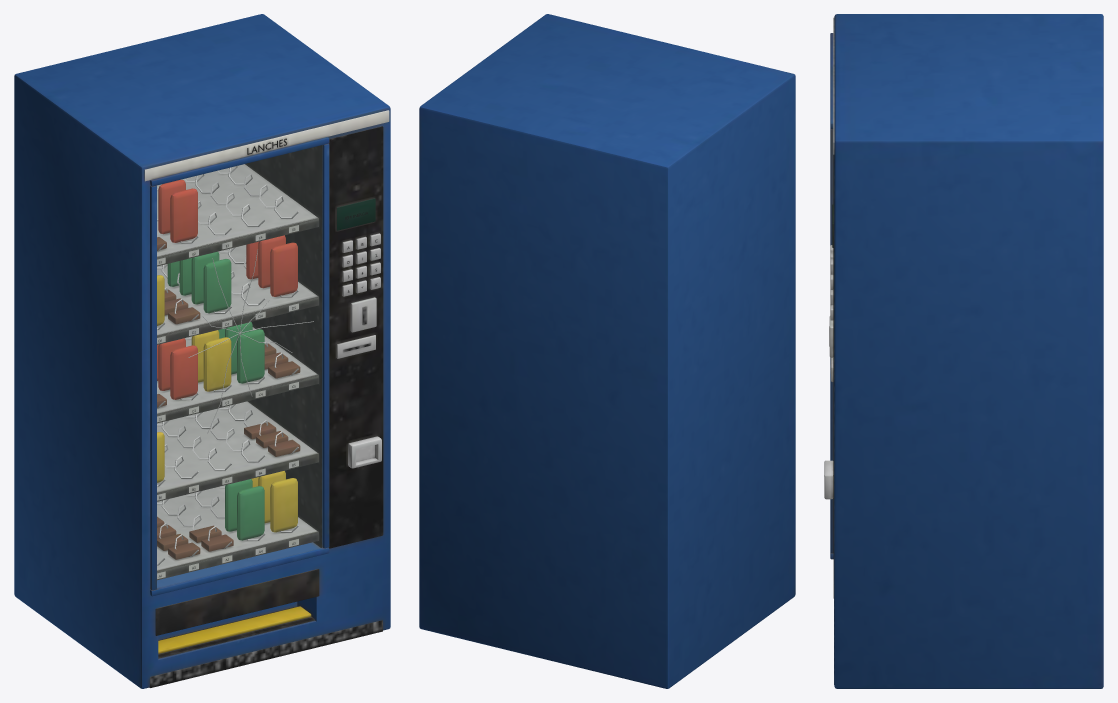
File: maquina_lanches.glb
3 renders of one model, left to right at view 1: azimuth 30°, elevation 25°; view 2: azimuth 150°, elevation 25°; view 3: azimuth 270°, elevation 25°, orthographic. The views are drawn at different scales.
Parts seen in each view (by area): view 1: maquina, vidro_frente; view 2: maquina; view 3: maquina.
Part boxes in pixels (x1=…): maquina: x1=14, y1=14, x2=390, y2=688; vidro_frente: x1=157, y1=145, x2=322, y2=587; maquina: x1=419, y1=14, x2=795, y2=688; maquina: x1=824, y1=14, x2=1103, y2=688.
Bounding box in the file's own units: 0.9 × 1.8 × 0.83.
2 materials, 1 textured.
